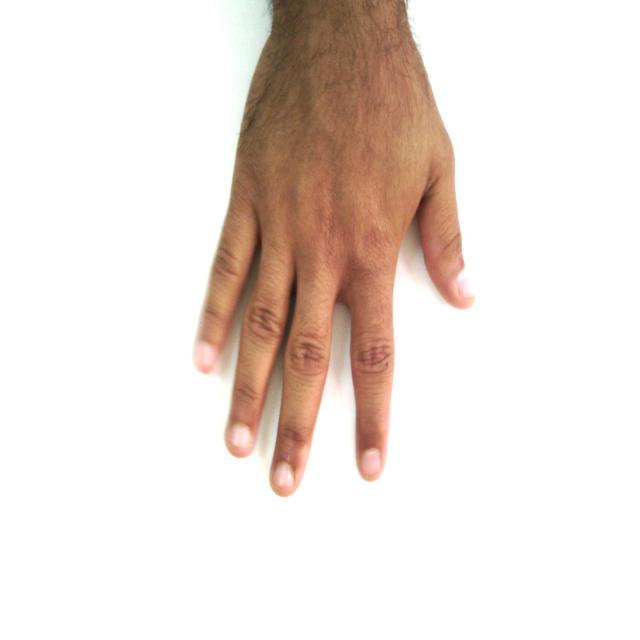Fingernail: (230, 426, 251, 450), (362, 450, 381, 476), (274, 465, 293, 491), (195, 344, 214, 368), (458, 276, 474, 298)
